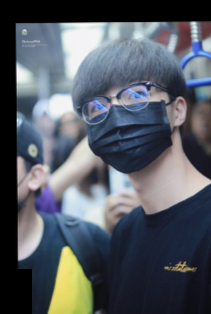with_mask: (84, 76, 177, 174)
